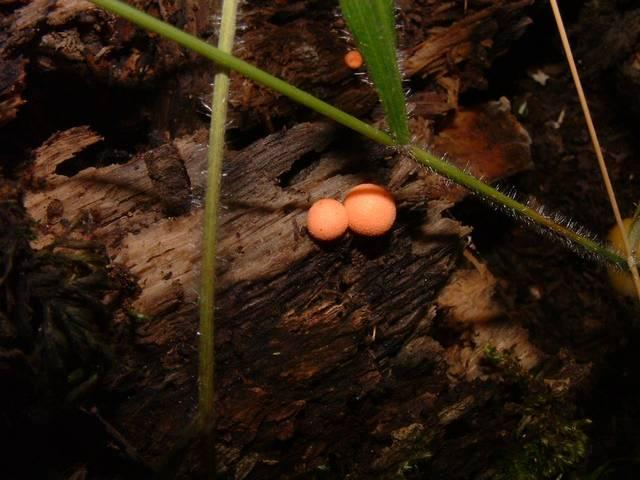Non-edible Mushroom: (342, 181, 397, 237), (305, 197, 348, 241)
